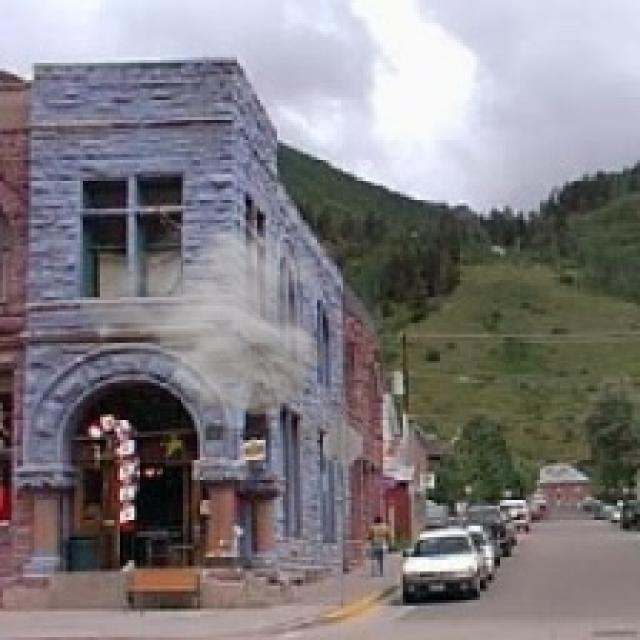Smoke: (68, 217, 352, 434)
